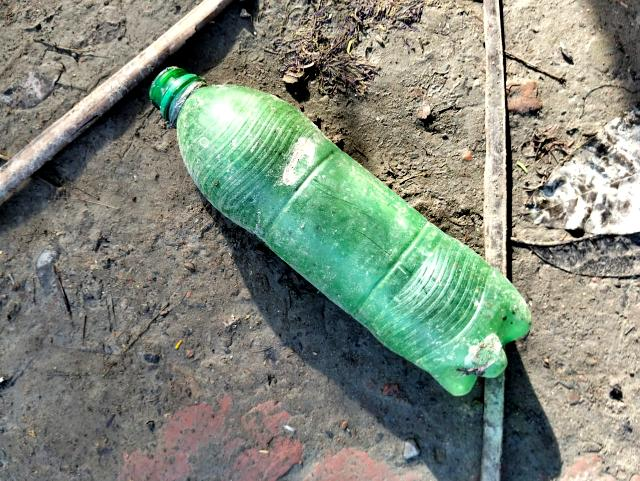bottle: (127, 29, 545, 411)
